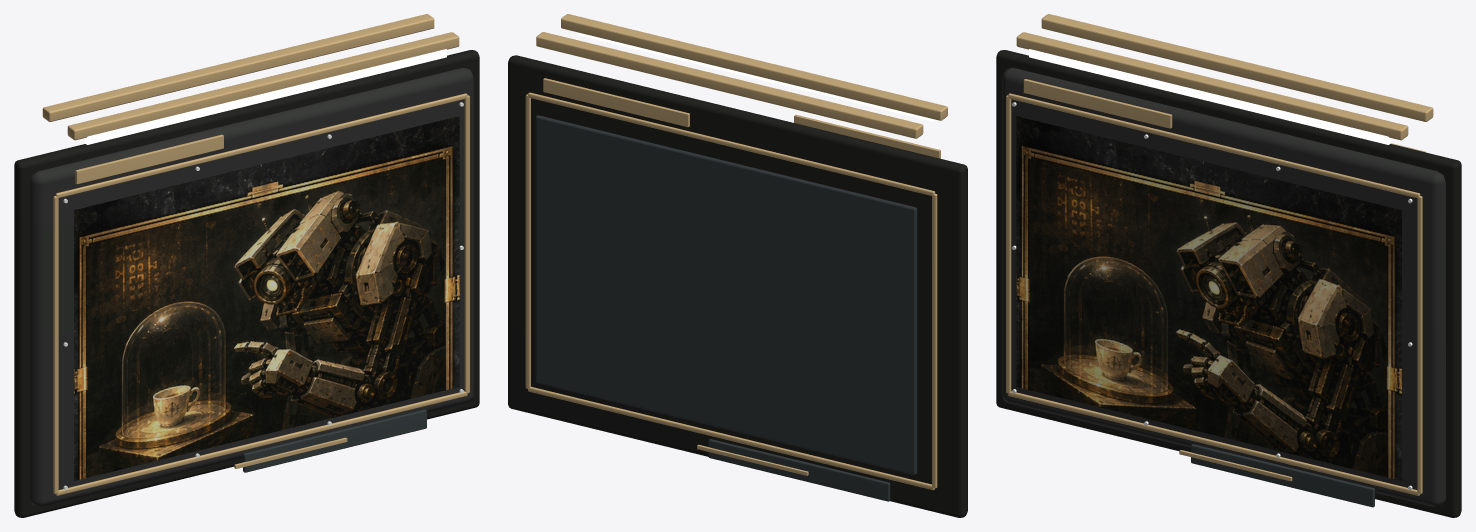
File: age_museum_wall_art_robot_worker.glb
3 renders of one model, left to right at view 1: azimuth 30°, elevation 25°; view 2: azimuth 150°, elevation 25°; view 3: azimuth 330°, elevation 25°, orthographic.
Visible parts, largest first — view 1: age_museum_wall_art_robot_worker_front_image2_readable_face, age_museum_wall_art_robot_worker_blackened_metal_frame, age_museum_wall_art_robot_worker_shadow_gap, age_museum_wall_art_robot_worker_aged_bronze_inner_frame_tri (×4), age_museum_wall_art_robot_worker_back_gallery_light_bronze_s, age_museum_wall_art_robot_worker_gallery_light_bronze_shroud, age_museum_wall_art_robot_worker_gallery_white_wall_washer, age_museum_wall_art_robot_worker_lower_caption_plate, age_museum_wall_art_robot_worker_small_archive_title_tag, age_museum_wall_art_robot_worker_lower_caption_gold_rule; view 2: age_museum_wall_art_robot_worker_back_matte_archive_plate, age_museum_wall_art_robot_worker_shadow_gap, age_museum_wall_art_robot_worker_back_aged_bronze_inner_fram (×4), age_museum_wall_art_robot_worker_back_gallery_light_bronze_s, age_museum_wall_art_robot_worker_gallery_light_bronze_shroud, age_museum_wall_art_robot_worker_back_lower_caption_plate, age_museum_wall_art_robot_worker_back_small_archive_title_ta, age_museum_wall_art_robot_worker_small_archive_title_tag, age_museum_wall_art_robot_worker_gallery_white_wall_washer, age_museum_wall_art_robot_worker_back_lower_caption_gold_rul; view 3: age_museum_wall_art_robot_worker_front_image2_readable_face, age_museum_wall_art_robot_worker_blackened_metal_frame, age_museum_wall_art_robot_worker_shadow_gap, age_museum_wall_art_robot_worker_aged_bronze_inner_frame_tri (×4), age_museum_wall_art_robot_worker_back_gallery_light_bronze_s, age_museum_wall_art_robot_worker_gallery_light_bronze_shroud, age_museum_wall_art_robot_worker_gallery_white_wall_washer, age_museum_wall_art_robot_worker_lower_caption_plate, age_museum_wall_art_robot_worker_small_archive_title_tag, age_museum_wall_art_robot_worker_lower_caption_gold_rule.
Boxes of the visible parts, x1,y1,x2,y2 form: age_museum_wall_art_robot_worker_front_image2_readable_face: (74, 116, 459, 480); age_museum_wall_art_robot_worker_blackened_metal_frame: (30, 67, 473, 506); age_museum_wall_art_robot_worker_shadow_gap: (14, 50, 479, 517); age_museum_wall_art_robot_worker_aged_bronze_inner_frame_tri (×4): (53, 93, 469, 495); age_museum_wall_art_robot_worker_back_gallery_light_bronze_s: (42, 14, 434, 121); age_museum_wall_art_robot_worker_gallery_light_bronze_shroud: (67, 32, 459, 140); age_museum_wall_art_robot_worker_gallery_white_wall_washer: (85, 49, 446, 144); age_museum_wall_art_robot_worker_lower_caption_plate: (243, 409, 426, 472); age_museum_wall_art_robot_worker_small_archive_title_tag: (75, 134, 223, 184); age_museum_wall_art_robot_worker_lower_caption_gold_rule: (234, 437, 347, 468); age_museum_wall_art_robot_worker_back_matte_archive_plate: (535, 115, 917, 474); age_museum_wall_art_robot_worker_shadow_gap: (508, 55, 967, 517); age_museum_wall_art_robot_worker_back_aged_bronze_inner_fram (×4): (525, 92, 937, 490); age_museum_wall_art_robot_worker_back_gallery_light_bronze_s: (536, 32, 923, 138); age_museum_wall_art_robot_worker_gallery_light_bronze_shroud: (561, 14, 947, 120); age_museum_wall_art_robot_worker_back_lower_caption_plate: (708, 439, 890, 501); age_museum_wall_art_robot_worker_back_small_archive_title_ta: (543, 78, 689, 127); age_museum_wall_art_robot_worker_small_archive_title_tag: (794, 114, 940, 158); age_museum_wall_art_robot_worker_gallery_white_wall_washer: (578, 32, 935, 121); age_museum_wall_art_robot_worker_back_lower_caption_gold_rul: (697, 444, 808, 475); age_museum_wall_art_robot_worker_front_image2_readable_face: (1016, 116, 1401, 480); age_museum_wall_art_robot_worker_blackened_metal_frame: (1002, 67, 1445, 506); age_museum_wall_art_robot_worker_shadow_gap: (996, 50, 1461, 517); age_museum_wall_art_robot_worker_aged_bronze_inner_frame_tri (×4): (1006, 93, 1422, 495); age_museum_wall_art_robot_worker_back_gallery_light_bronze_s: (1041, 14, 1433, 121); age_museum_wall_art_robot_worker_gallery_light_bronze_shroud: (1016, 32, 1408, 140); age_museum_wall_art_robot_worker_gallery_white_wall_washer: (1029, 49, 1390, 144); age_museum_wall_art_robot_worker_lower_caption_plate: (1191, 444, 1374, 507); age_museum_wall_art_robot_worker_small_archive_title_tag: (1023, 79, 1172, 128); age_museum_wall_art_robot_worker_lower_caption_gold_rule: (1179, 450, 1292, 481).
Size of the model in its own units: 1.82 by 1.48 by 0.228.
7 materials, 1 textured.
